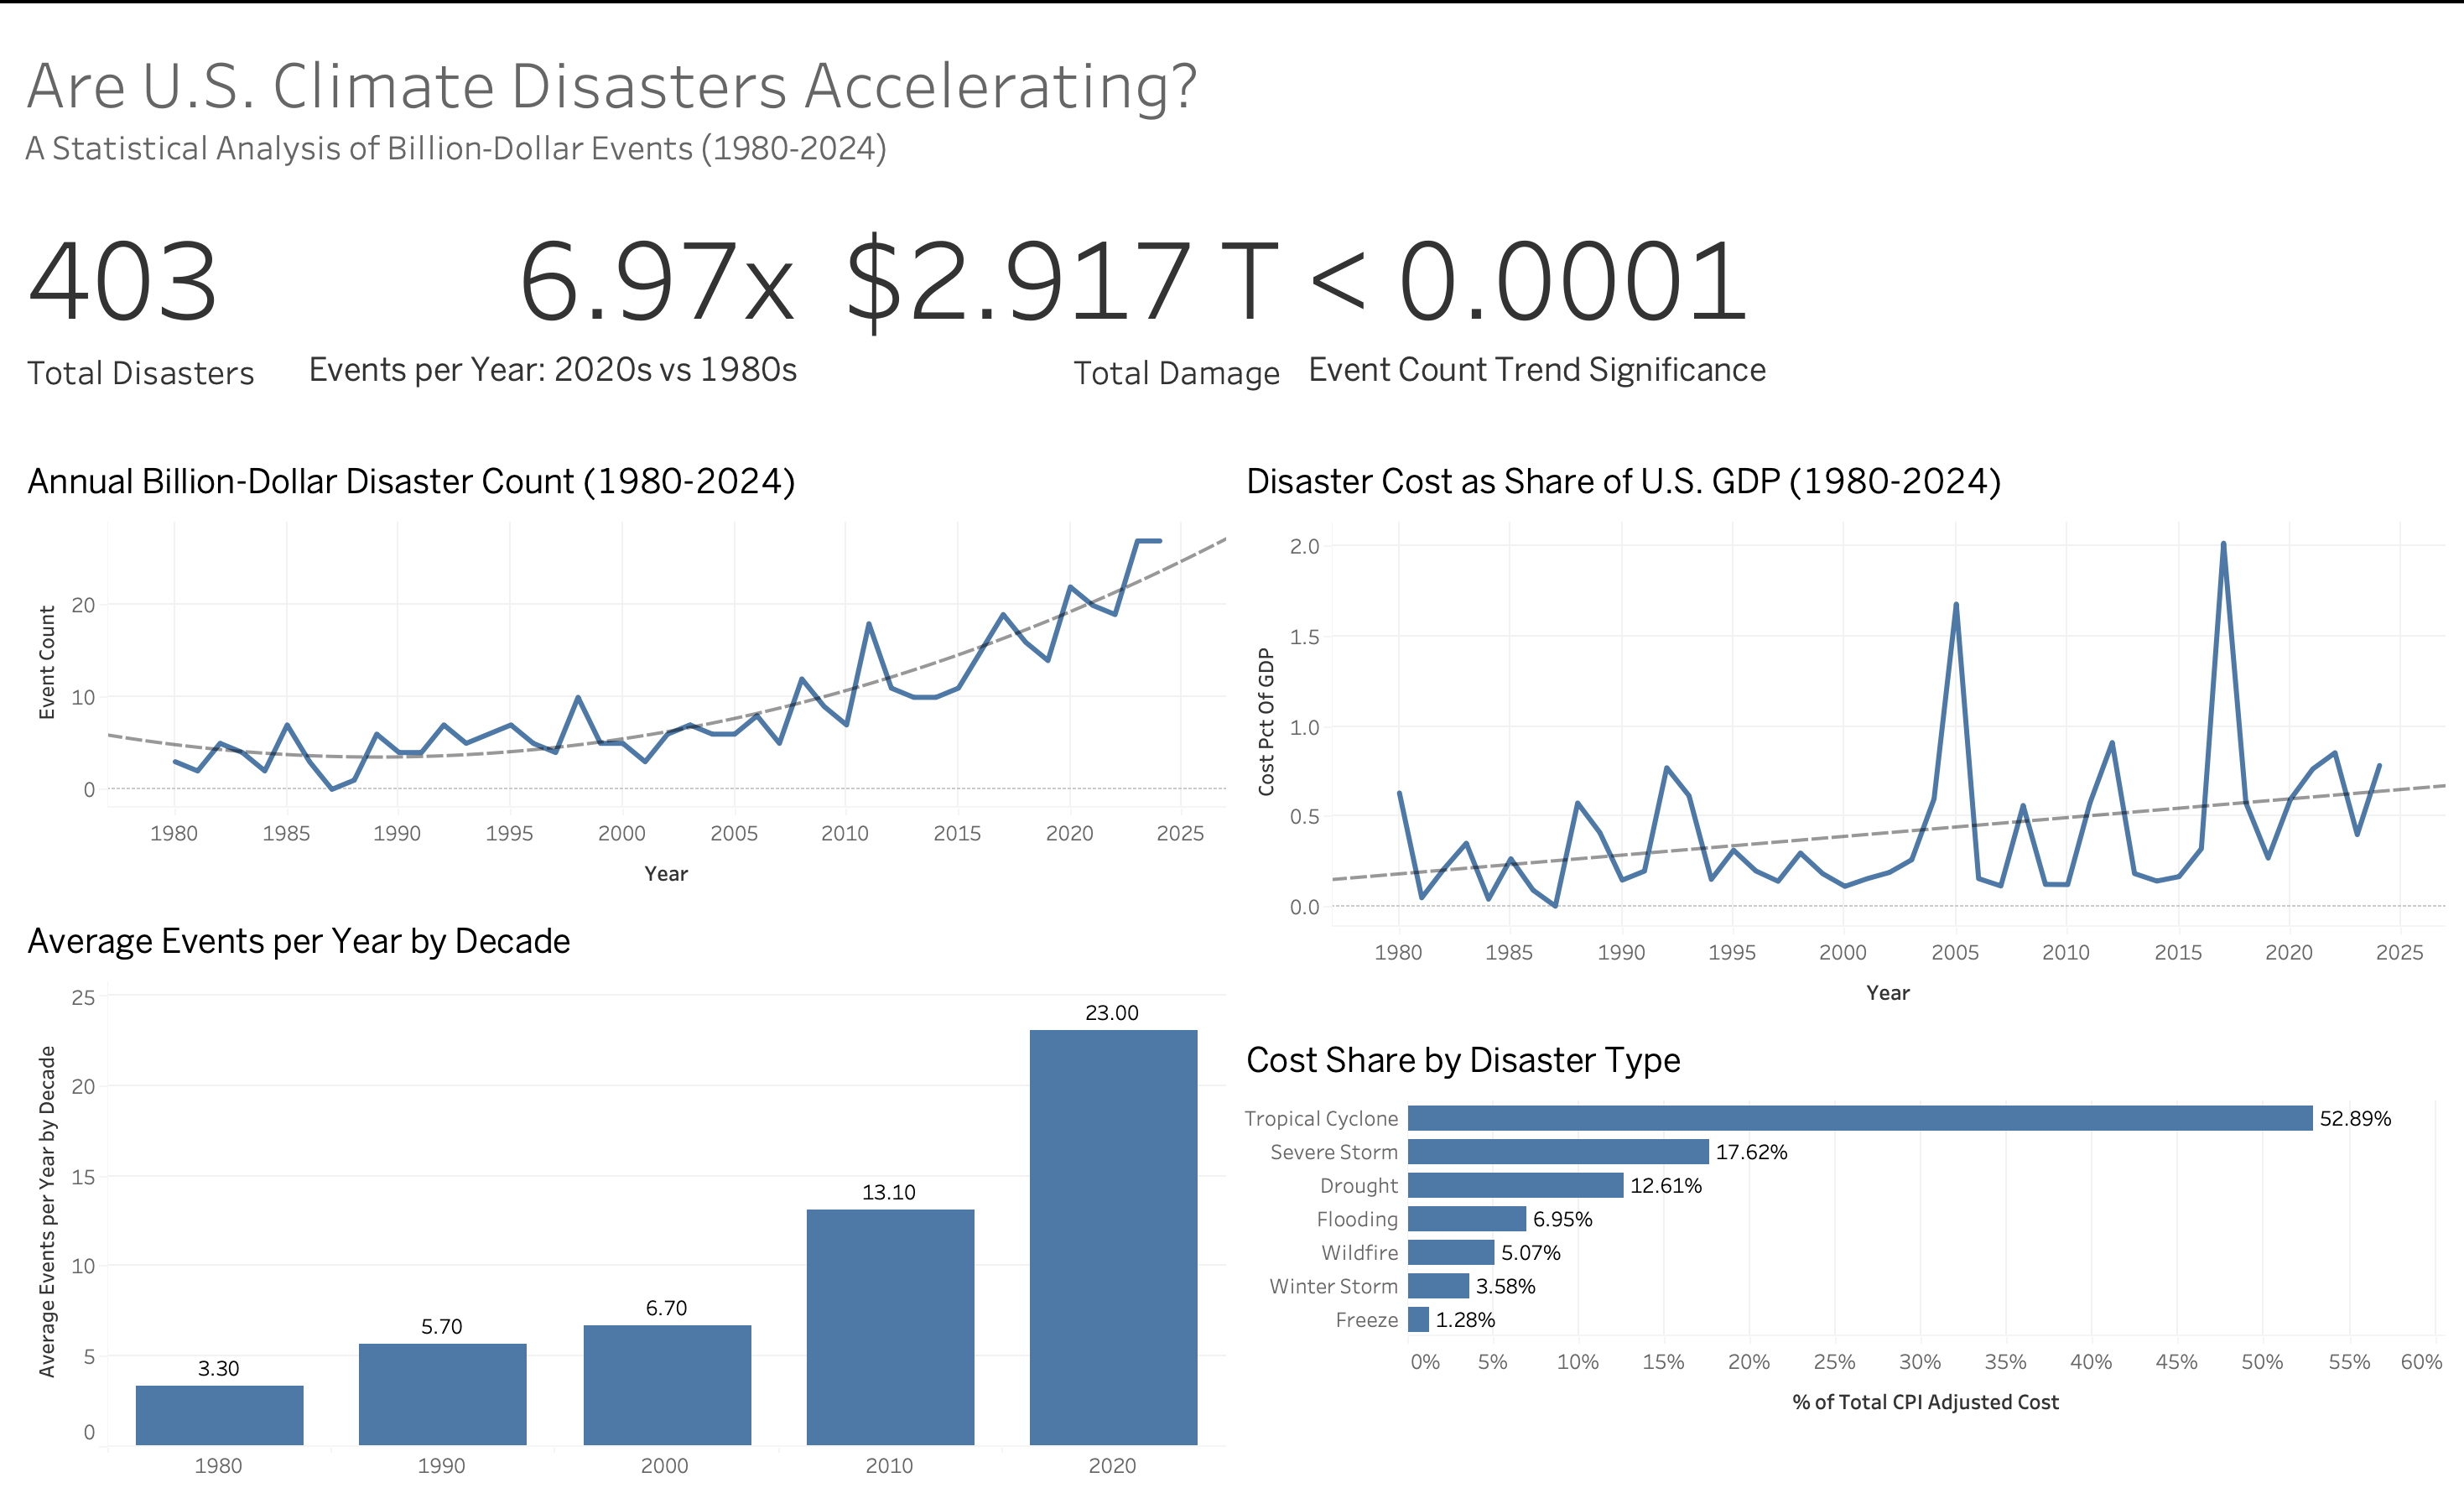

Layout of this report page (visuals, bound fields, positions):
{"tool":"tableau","page":{"name":"Dashboard 1","canvas":[1000,1000],"units":"permille","ordinal":0},"visuals":[{"type":"text","box":[6.4,10.8,987.3,118.7]},{"type":"worksheet","title":"Sheet 6","mark":"Text","box":[6.4,129.5,133.4,167.3]},{"type":"worksheet","title":"Sheet 8","mark":"Automatic","box":[139.8,129.5,244.6,167.3]},{"type":"worksheet","title":"Sheet 7","mark":"Automatic","box":[384.4,129.5,228.8,167.3]},{"type":"worksheet","title":"Sheet 9","mark":"Automatic","box":[613.2,129.5,244.6,167.3]},{"type":"worksheet","title":"Sheet 1","mark":"Automatic","rows":["event_count"],"cols":["year"],"box":[6.4,296.9,493.6,305.5]},{"type":"worksheet","title":"Sheet 2","mark":"Automatic","rows":["cost_pct_of_gdp"],"cols":["year"],"box":[500,296.9,493.7,384.6]},{"type":"worksheet","title":"Sheet 3","mark":"Automatic","rows":["Calculation_3634439128715264"],"cols":["decade"],"box":[6.4,602.4,493.6,386.8]},{"type":"worksheet","title":"Sheet 5","mark":"Automatic","rows":["disaster_type"],"box":[500,681.5,493.7,307.7]}]}

Visuals, with their boxes on the dashboard's canvas, which has no fixed pixel size, in thousandths of its width and height (x1, y1, x2, y2). These are canvas units, not pixel positions in the 2464x1488 screenshot, which may show the page scaled, cropped or inside an application window:
text: x1=6 y1=11 x2=994 y2=130
"Sheet 6" worksheet (Text marks): x1=6 y1=130 x2=140 y2=297
"Sheet 8" worksheet: x1=140 y1=130 x2=384 y2=297
"Sheet 7" worksheet: x1=384 y1=130 x2=613 y2=297
"Sheet 9" worksheet: x1=613 y1=130 x2=858 y2=297
"Sheet 1" worksheet: x1=6 y1=297 x2=500 y2=602
"Sheet 2" worksheet: x1=500 y1=297 x2=994 y2=682
"Sheet 3" worksheet: x1=6 y1=602 x2=500 y2=989
"Sheet 5" worksheet: x1=500 y1=682 x2=994 y2=989
